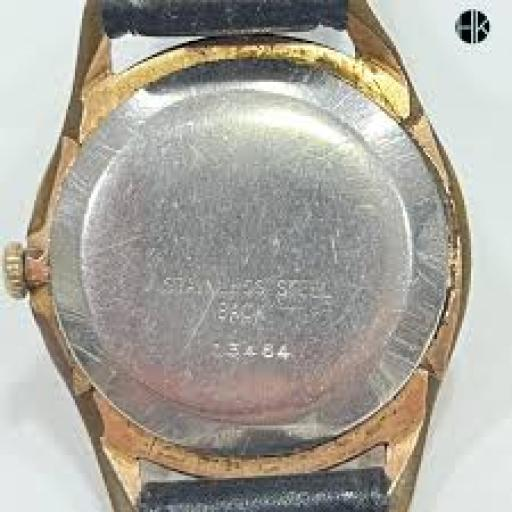KolSaati: (3, 0, 476, 512)
